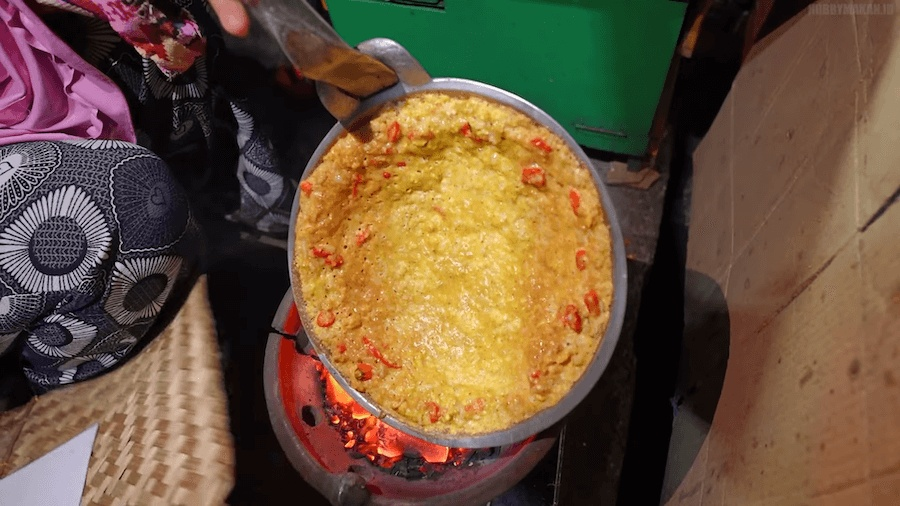kerak_telor: (291, 97, 626, 437)
